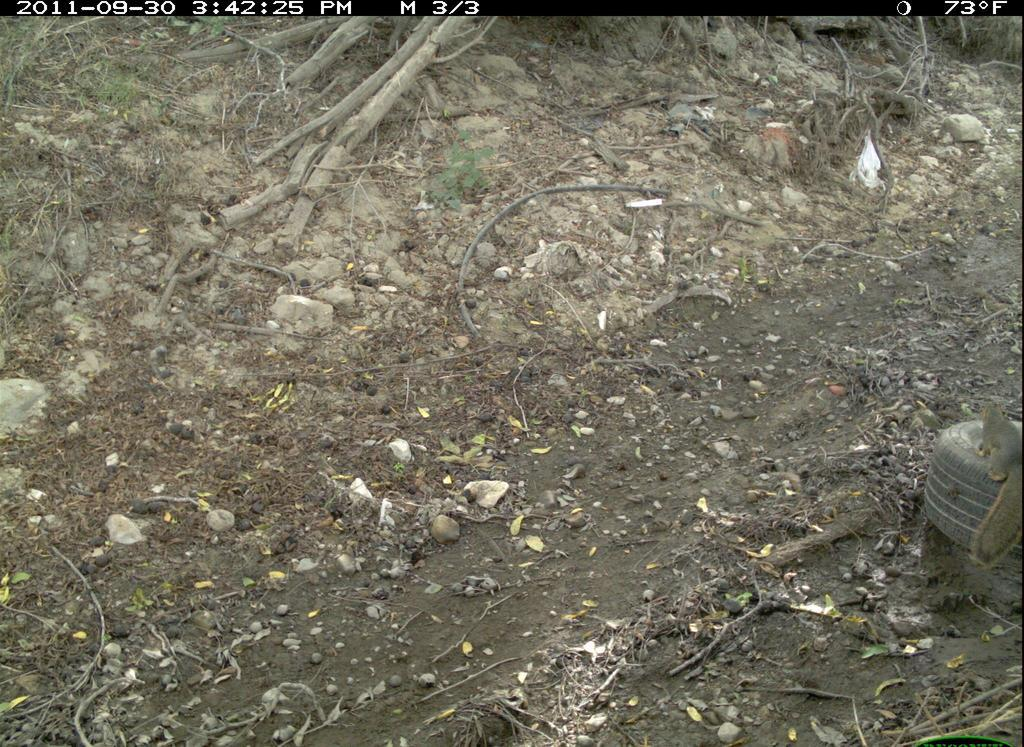squirrel: (966, 388, 1023, 580)
